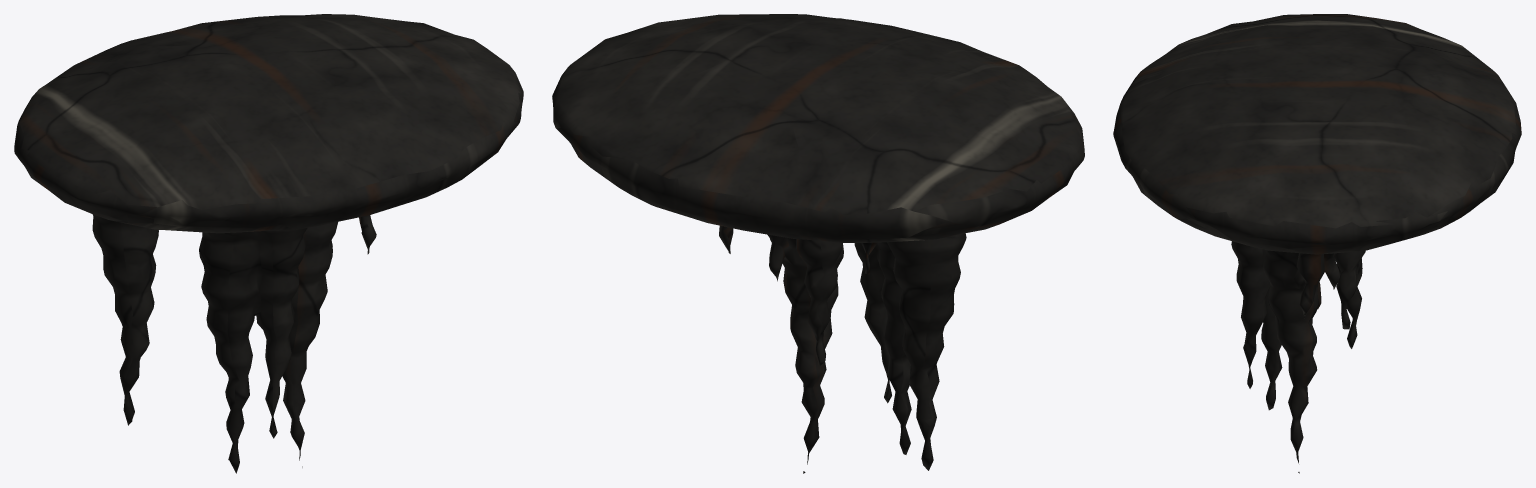
The model's file is CAVE_Stalactites.fbx.
3 views of the same model, side by side, from view 1: azimuth 30°, elevation 25°; view 2: azimuth 150°, elevation 25°; view 3: azimuth 270°, elevation 25° (orthographic). The views are drawn at different scales.
Visible parts, largest first — view 1: CAVE_Stalactites_LOD0; view 2: CAVE_Stalactites_LOD0; view 3: CAVE_Stalactites_LOD0.
Part boxes in pixels (x1=…): CAVE_Stalactites_LOD0: x1=14, y1=14, x2=523, y2=473; CAVE_Stalactites_LOD0: x1=552, y1=14, x2=1084, y2=473; CAVE_Stalactites_LOD0: x1=1113, y1=14, x2=1521, y2=473.
Size of what is drawn, in the model's own units: 4.77 by 3.89 by 3.79.
